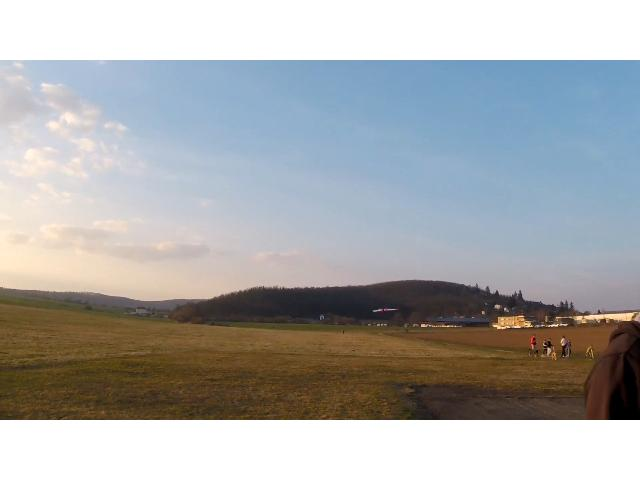Anti-Drone: (374, 309, 398, 313)
